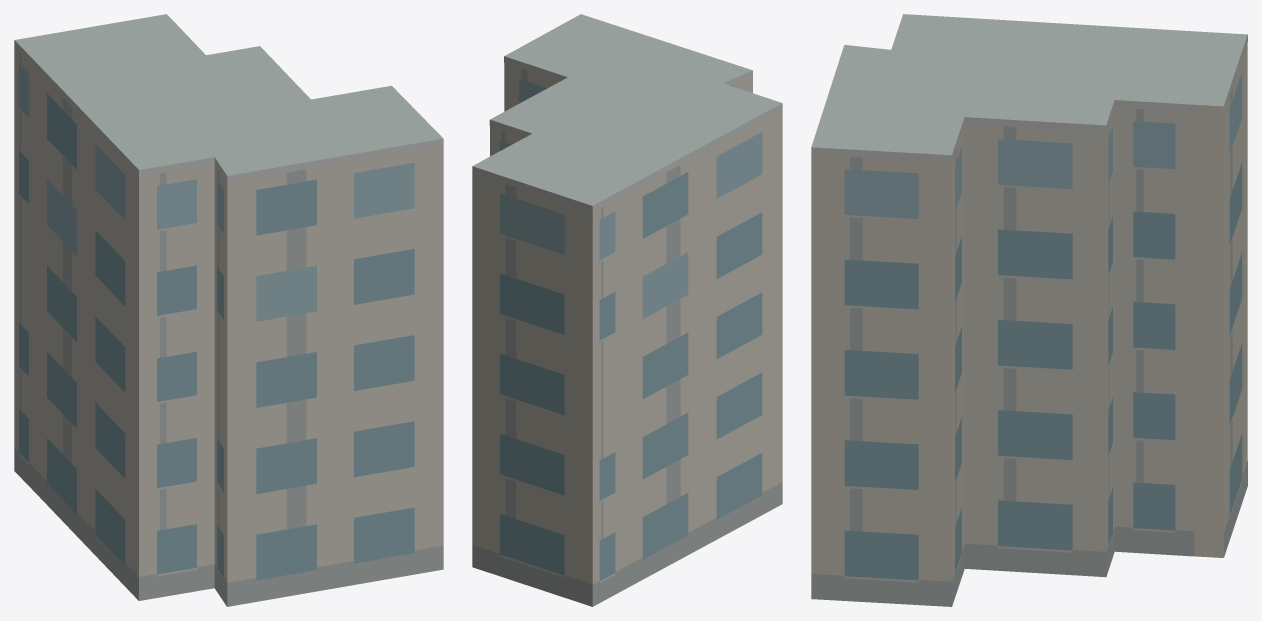
Rendered from survey-upis-32806528.glb.
3 renders of one model, left to right at view 1: azimuth 30°, elevation 25°; view 2: azimuth 150°, elevation 25°; view 3: azimuth 270°, elevation 25°, orthographic. The views are drawn at different scales.
Visible parts, largest first — view 1: survey-upis-32806528.tmp; view 2: survey-upis-32806528.tmp; view 3: survey-upis-32806528.tmp.
Part boxes in pixels (x1,y1,x2,y2): survey-upis-32806528.tmp: (14,14,443,606); survey-upis-32806528.tmp: (472,14,782,606); survey-upis-32806528.tmp: (811,14,1247,606).
Size of the model in its own units: 10.02 by 14.93 by 13.09.
